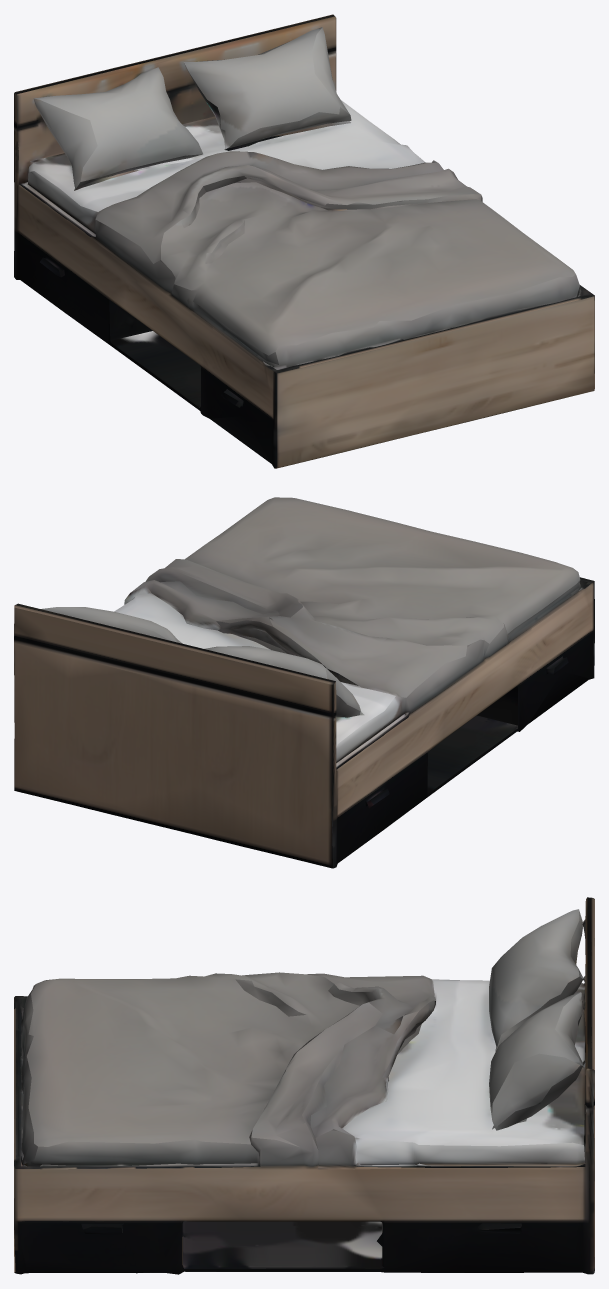
File: LitDouble1_3D_textured.glb
3 views of the same model, one above another, from view 1: azimuth 30°, elevation 25°; view 2: azimuth 150°, elevation 25°; view 3: azimuth 270°, elevation 25° (orthographic). The views are drawn at different scales.
Visible parts, largest first — view 1: temp_mesh.ply; view 2: temp_mesh.ply; view 3: temp_mesh.ply.
Boxes of the visible parts, x1=… form: temp_mesh.ply: x1=14, y1=14, x2=594, y2=468; temp_mesh.ply: x1=14, y1=497, x2=594, y2=868; temp_mesh.ply: x1=14, y1=897, x2=594, y2=1274.
Bounding box in the file's own units: 1.45 × 0.7715 × 1.97.
Materials: 1 (1 with a texture image).
